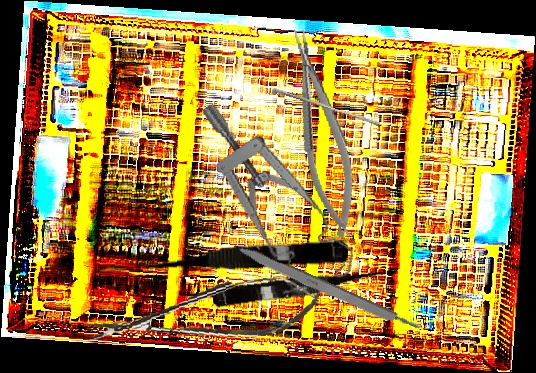Micro Scissor: (83, 272, 323, 355), (134, 234, 349, 278), (211, 263, 391, 312)
Needle Holder: (283, 25, 364, 241)
Pusher: (270, 87, 382, 127)
Scalpel Handle: (230, 241, 423, 337)
Speculum: (199, 80, 360, 308)
